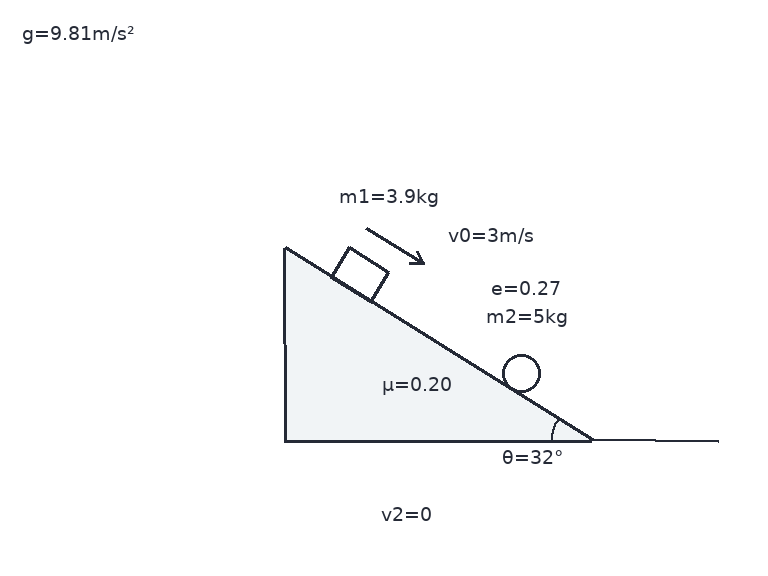ball: (500, 352, 542, 394)
block: (329, 246, 390, 304)
ramp: (282, 246, 594, 442)
